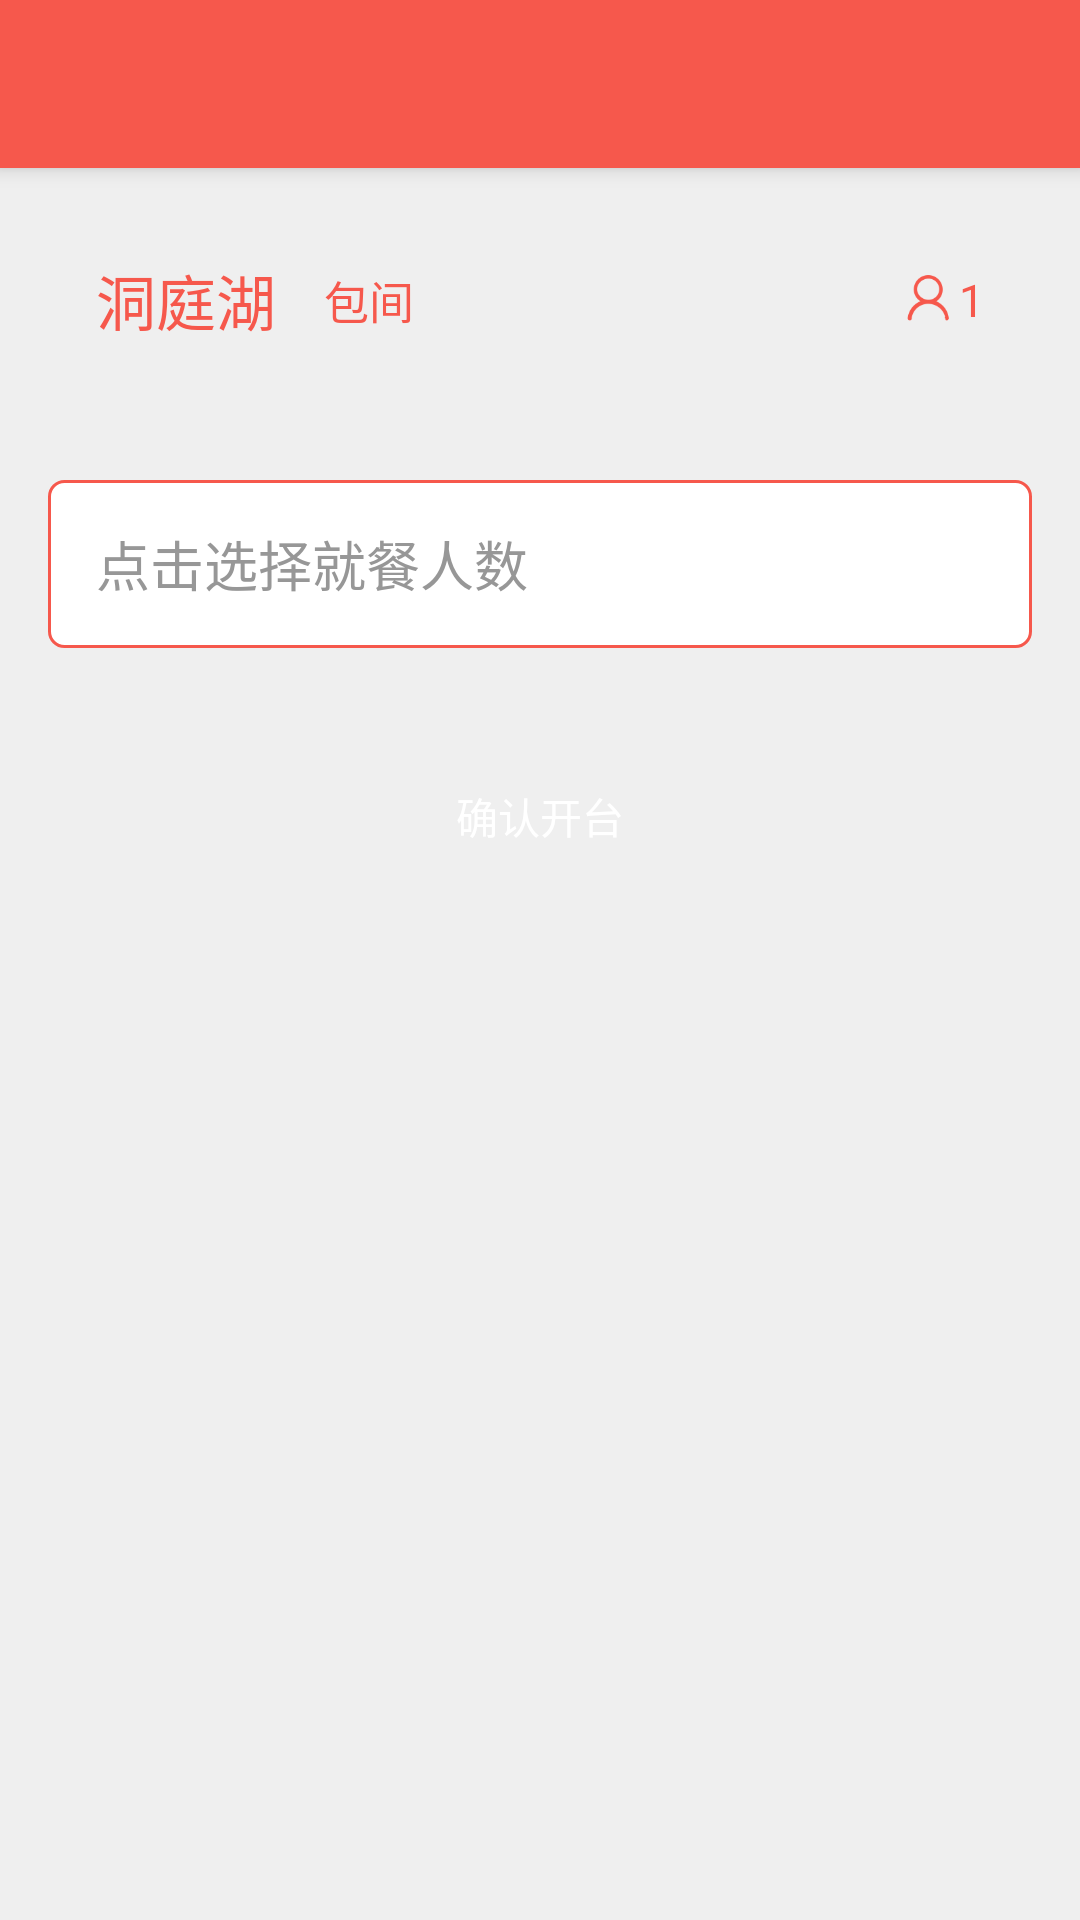

Point at icon controls on the screen. Image size 1080px x 1920px, points as (x=x, y=y).
manred: (x=928, y=298)
